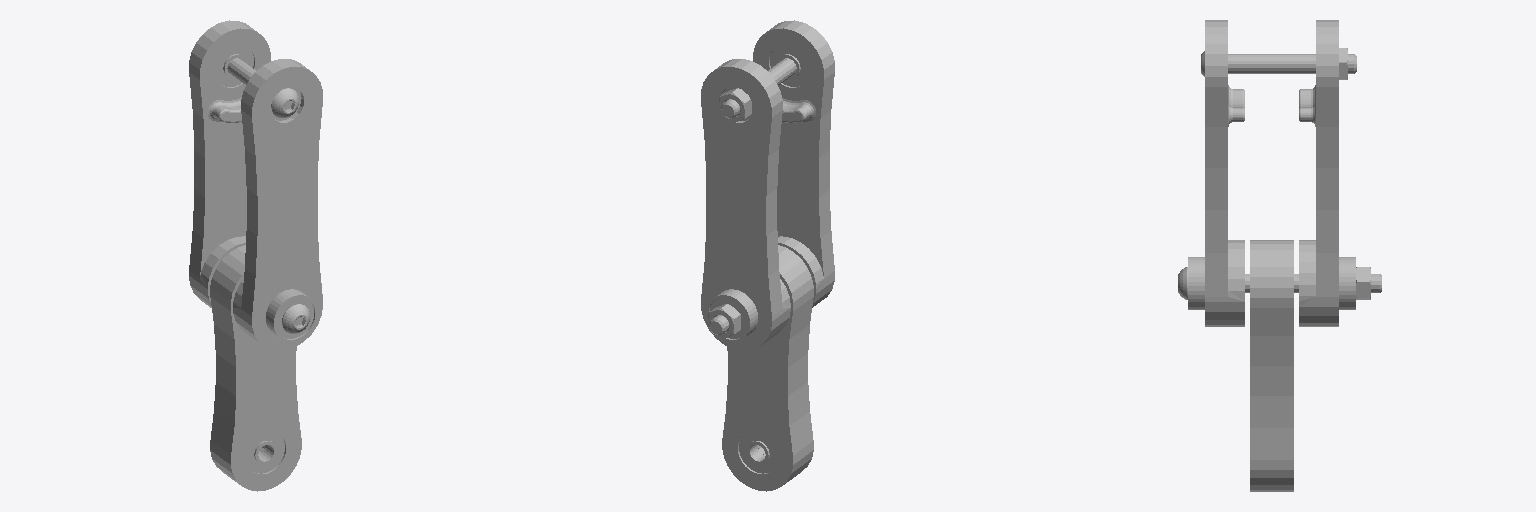
URDF robot description (drone_pendulum):
<?xml version="1.0" encoding="utf-8"?>
<!-- This URDF was automatically created by SolidWorks to URDF Exporter! Originally created by Stephen Brawner (brawner@gmail.com) 
     Commit Version: 1.6.0-4-g7f85cfe  Build Version: 1.6.7995.38578
     For more information, please see http://wiki.ros.org/sw_urdf_exporter -->
<robot
  name="drone_pendulum">
  <!-- Inertial properties manually corrected from override-aware SolidWorks
       mass reports. SI units; tensors about the COM in each link frame.
       Positive-notation products of inertia are negated for URDF. -->
  <link
    name="drone">
    <inertial>
      <origin
        xyz="-0.00004145292 0.00001528421 0.00230668360"
        rpy="0 0 0" />
      <mass
        value="0.6" />
      <inertia
        ixx="0.00214257726999470"
        ixy="-0.00001883155037383"
        ixz="-0.00000054095819893"
        iyy="0.00377193513705818"
        iyz="-0.00000030213756058"
        izz="0.00544078907477261" />
    </inertial>
    <visual>
      <origin
        xyz="0 0 0"
        rpy="0 0 0" />
      <geometry>
        <mesh
          filename="package://drone_pendulum_description/meshes/drone.STL" />
      </geometry>
      <material
        name="">
        <color
          rgba="0.894117647058823 0.894117647058823 0.894117647058823 1" />
      </material>
    </visual>
    <collision>
      <origin
        xyz="0 0 0"
        rpy="0 0 0" />
      <geometry>
        <mesh
          filename="package://drone_pendulum_description/meshes/drone.STL" />
      </geometry>
    </collision>
  </link>
  <!-- Upper Arm Assy, 100 mm between pivots. -->
  <link
    name="link1">
    <inertial>
      <origin
        xyz="0 -0.06122088993 0.00224349809"
        rpy="0 0 0" />
      <mass
        value="0.16460167956" />
      <inertia
        ixx="0.00044629143170333"
        ixy="6.5358E-12"
        ixz="-2.0825E-13"
        iyy="0.00009763661936700"
        iyz="-0.00000099083993749"
        izz="0.00036140296540746" />
    </inertial>
    <visual>
      <origin
        xyz="0 0 0"
        rpy="0 0 0" />
      <geometry>
        <mesh
          filename="package://drone_pendulum_description/meshes/upper_arm.STL" />
      </geometry>
      <material
        name="">
        <color
          rgba="0.752941176470588 0.752941176470588 0.752941176470588 1" />
      </material>
    </visual>
    <collision>
      <origin
        xyz="0 0 0"
        rpy="0 0 0" />
      <geometry>
        <mesh
          filename="package://drone_pendulum_description/meshes/upper_arm.STL" />
      </geometry>
    </collision>
  </link>
  <joint
    name="j0"
    type="continuous">
    <!-- The CAD arm extends along -Y and its bearing runs along +Z.
         In the drone frame these map to -Z and +Y, respectively. -->
    <origin
      xyz="0 0 -0.041"
      rpy="1.5707963267948966 0 3.141592653589793" />
    <parent
      link="drone" />
    <child
      link="link1" />
    <axis
      xyz="0 0 1" />
    <dynamics damping="0" friction="0" />
  </joint>
  <!-- Lower Arm Assy, 75 mm between pivots. -->
  <link
    name="link2">
    <inertial>
      <origin
        xyz="0 -0.0375 0"
        rpy="0 0 0" />
      <mass
        value="0.067" />
      <inertia
        ixx="0.00008748228316206"
        ixy="0"
        ixz="0"
        iyy="0.00000559392736459"
        iyz="0"
        izz="0.00008891744393024" />
    </inertial>
    <visual>
      <origin
        xyz="0 0 0"
        rpy="0 0 0" />
      <geometry>
        <mesh
          filename="package://drone_pendulum_description/meshes/lower_arm.STL" />
      </geometry>
      <material
        name="">
        <color
          rgba="0.752941176470588 0.752941176470588 0.752941176470588 1" />
      </material>
    </visual>
    <collision>
      <origin
        xyz="0 0 0"
        rpy="0 0 0" />
      <geometry>
        <mesh
          filename="package://drone_pendulum_description/meshes/lower_arm.STL" />
      </geometry>
    </collision>
  </link>
  <joint
    name="j1"
    type="continuous">
    <!-- Link 1 is 100 mm between pivots, along its local -Y axis. -->
    <origin
      xyz="0 -0.1 0"
      rpy="0 0 0" />
    <parent
      link="link1" />
    <child
      link="link2" />
    <axis
      xyz="0 0 1" />
    <dynamics damping="0" friction="0" />
  </joint>
</robot>

--- Render facts (derived) ---
3 views of the same robot in one strip: view 1: azimuth 30°, elevation 25°; view 2: azimuth 150°, elevation 25°; view 3: azimuth 270°, elevation 25° (orthographic).
Model drone_pendulum with 3 links and 2 joints (2 continuous), rooted at drone, posed all joints at 0.
Visible links, largest first — view 1: link1, link2; view 2: link1, link2; view 3: link1, link2.
Boxes of the visible links, box(x1,y1,x2,y2) form: link1: box(189, 20, 322, 350); link2: box(210, 245, 301, 491); link1: box(701, 20, 834, 350); link2: box(722, 245, 813, 491); link1: box(1178, 20, 1381, 326); link2: box(1250, 240, 1293, 491).
Bounding box of the posed robot: 0.036 × 0.0844 × 0.2108 m (x, y, z).
Meshes: 3 distinct files referenced, 2 mesh visuals loaded (2 binary STL); not drawn: 1 (reference not matched to a file when rendering).
